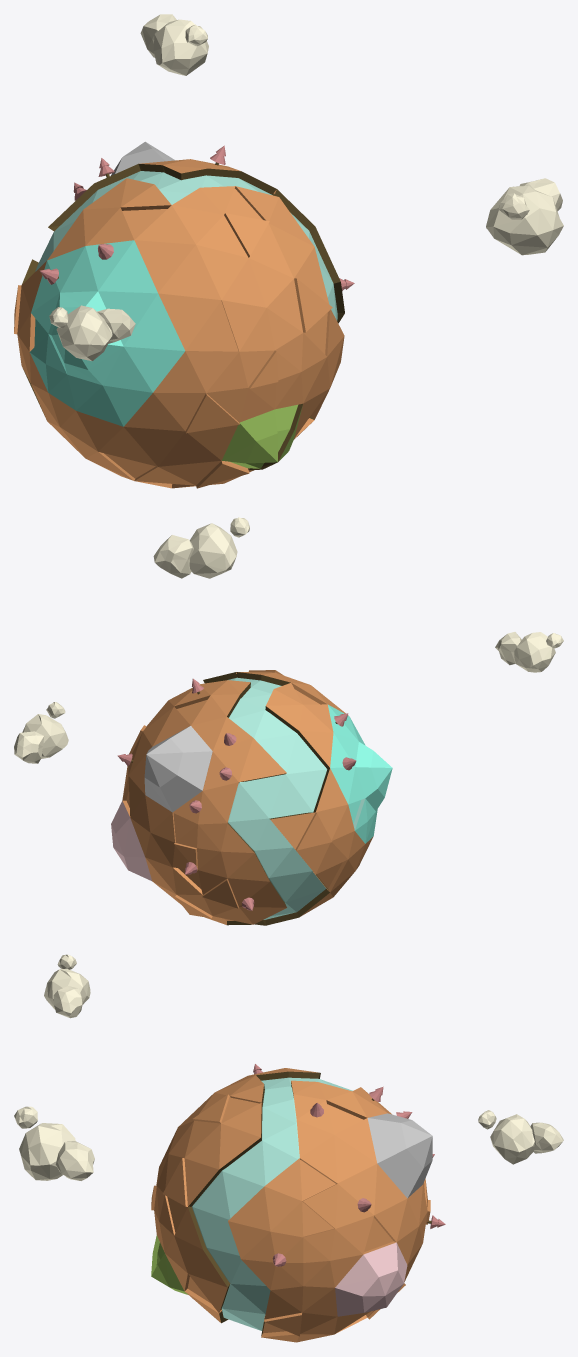
The model's file is Lowpolyearth.obj.
3 renders of one model, top to bottom at view 1: azimuth 30°, elevation 25°; view 2: azimuth 150°, elevation 25°; view 3: azimuth 270°, elevation 25°, orthographic. The views are drawn at different scales.
Parts seen in each view (by area): view 1: Sphere, Sphere.2, Polygon, Sphere.2_2, Sphere.2_1, Sphere.1_1, Sphere.1_2, Sphere.3; view 2: Sphere, Polygon, Sphere.2, Sphere.2_1, Sphere.1, Sphere.2_2, Sphere.1_2, Sphere.1_1; view 3: Sphere, Polygon, Sphere.2, Sphere.2_2, Sphere.1, Sphere.2_1, Sphere.1_2, Sphere.1_1.
Boxes of the visible parts, x1,y1,x2,y2 form: Sphere: [14, 141, 344, 488]; Sphere.2: [486, 185, 563, 255]; Polygon: [35, 171, 337, 320]; Sphere.2_2: [153, 19, 208, 75]; Sphere.2_1: [56, 305, 112, 361]; Sphere.1_1: [97, 308, 135, 343]; Sphere.1_2: [140, 14, 176, 57]; Sphere.3: [498, 193, 529, 219]; Sphere: [111, 670, 392, 925]; Polygon: [227, 677, 327, 919]; Sphere.2: [189, 523, 237, 578]; Sphere.2_1: [514, 632, 555, 672]; Sphere.1: [153, 535, 193, 578]; Sphere.2_2: [22, 714, 68, 758]; Sphere.1_2: [14, 731, 44, 763]; Sphere.1_1: [495, 632, 521, 665]; Sphere: [151, 1068, 432, 1342]; Polygon: [192, 1077, 352, 1330]; Sphere.2: [19, 1123, 75, 1180]; Sphere.2_2: [490, 1114, 534, 1164]; Sphere.1: [55, 1141, 94, 1180]; Sphere.2_1: [44, 968, 90, 1009]; Sphere.1_2: [530, 1122, 563, 1153]; Sphere.1_1: [53, 986, 82, 1018].
Bounding box in the file's own units: 896 × 590 × 1000.
